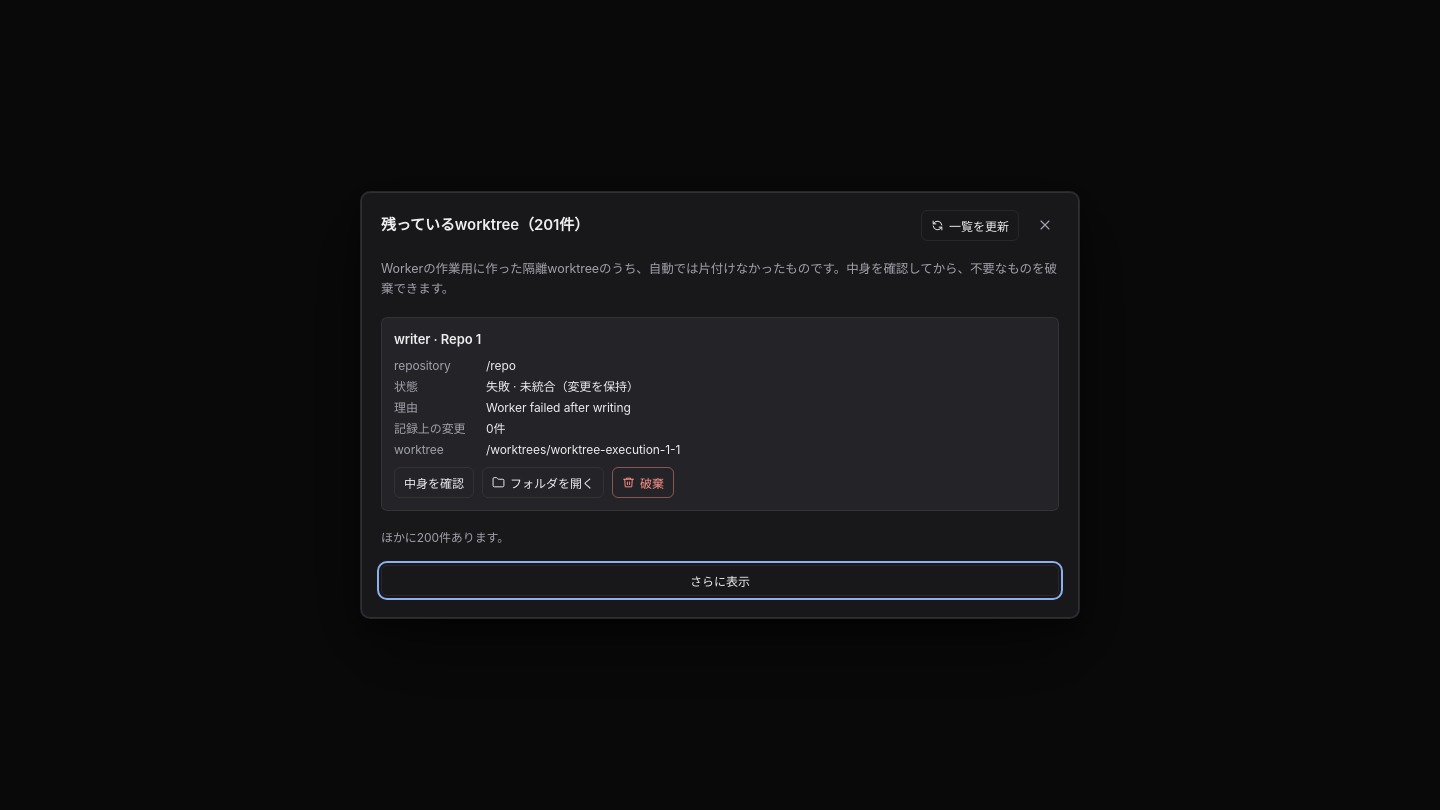
Scenario: retained worktree pagination (#966) › moves focus to the first added heading when the final page removes the focused more button
Click the button with test id "team-retained-load-more" at (720, 581), box top-left (381, 565), bottom-right (1059, 596)
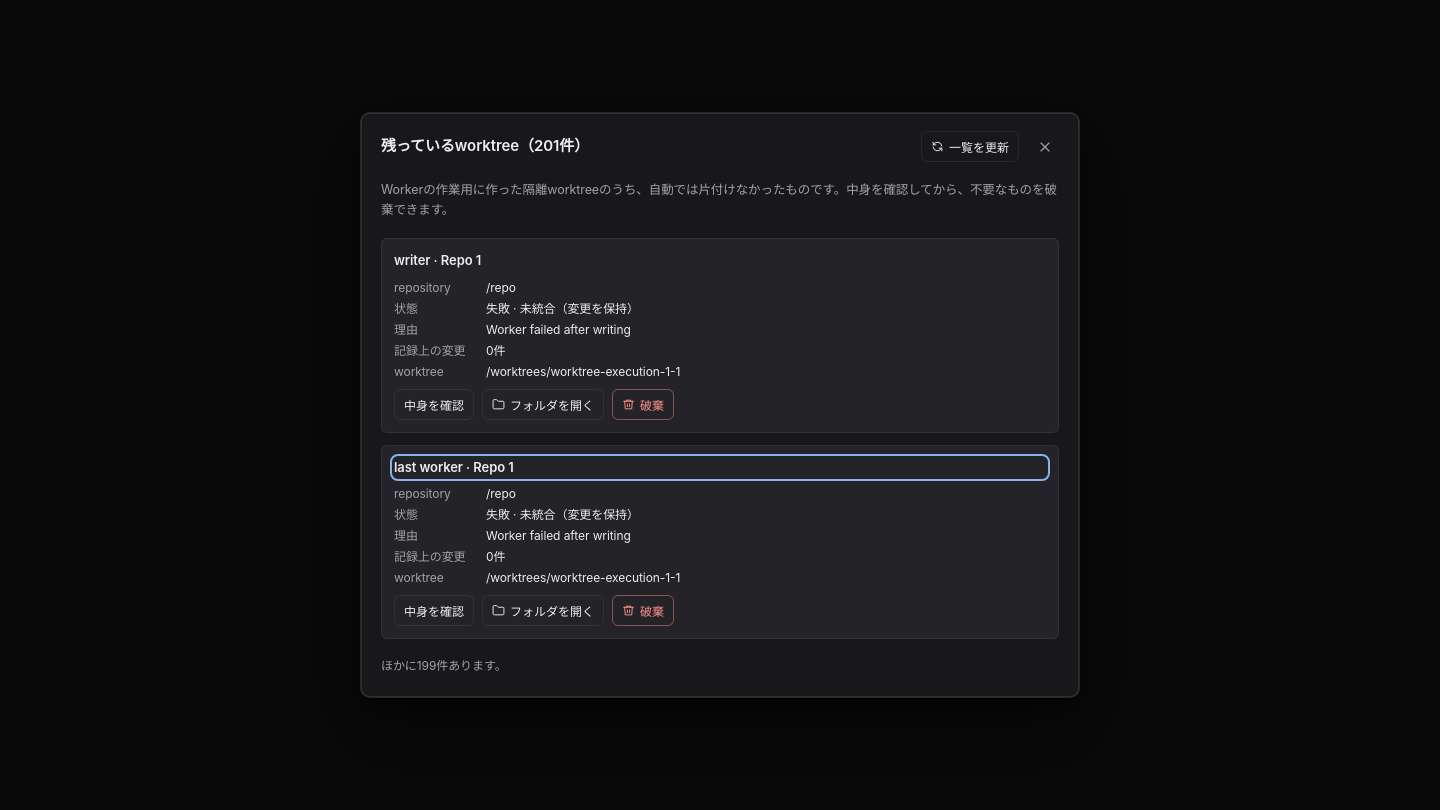
Expected: the heading "last worker · Repo 1" is shown, top-left (394, 458), bottom-right (514, 474)
